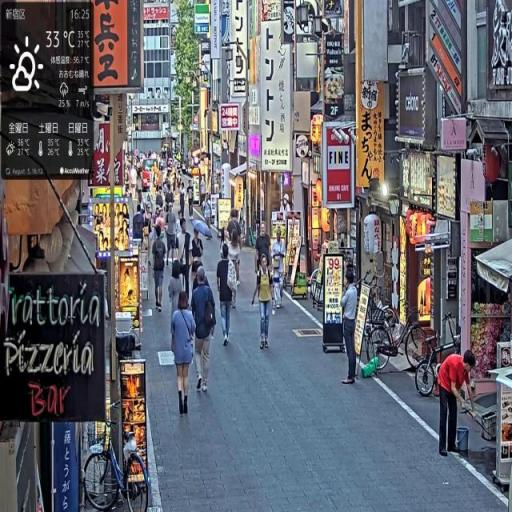person: (191, 266, 218, 398), (171, 289, 198, 420), (253, 252, 277, 352), (218, 242, 239, 350), (341, 267, 359, 392), (152, 224, 168, 312), (179, 219, 194, 304), (165, 204, 179, 268)
